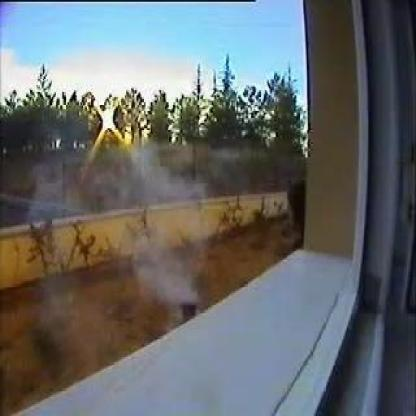-: (138, 247, 196, 302)
